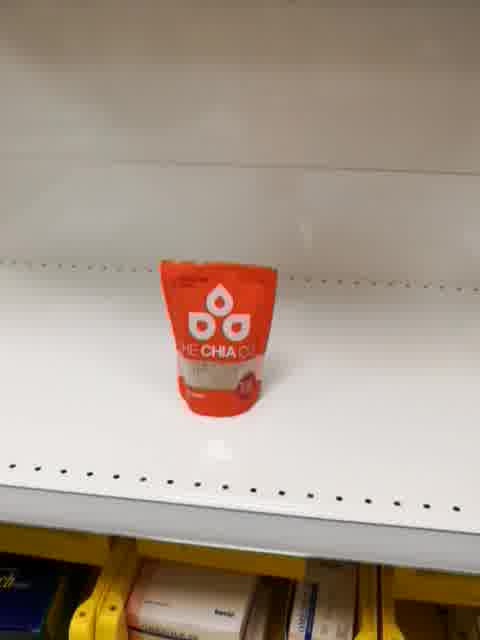whitechia: (159, 257, 278, 420)
